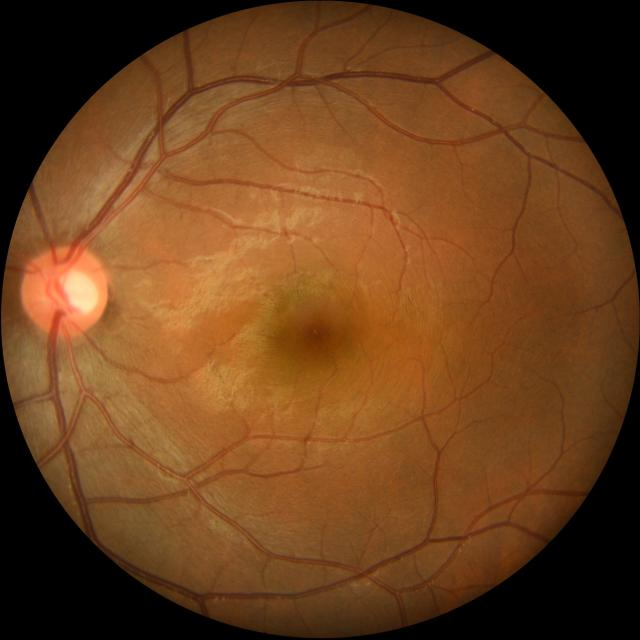OC: (50, 268, 97, 318)
OD: (21, 244, 109, 336)
